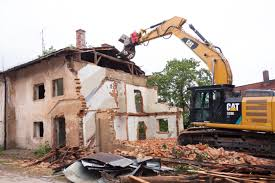excavator: (118, 15, 275, 158)
